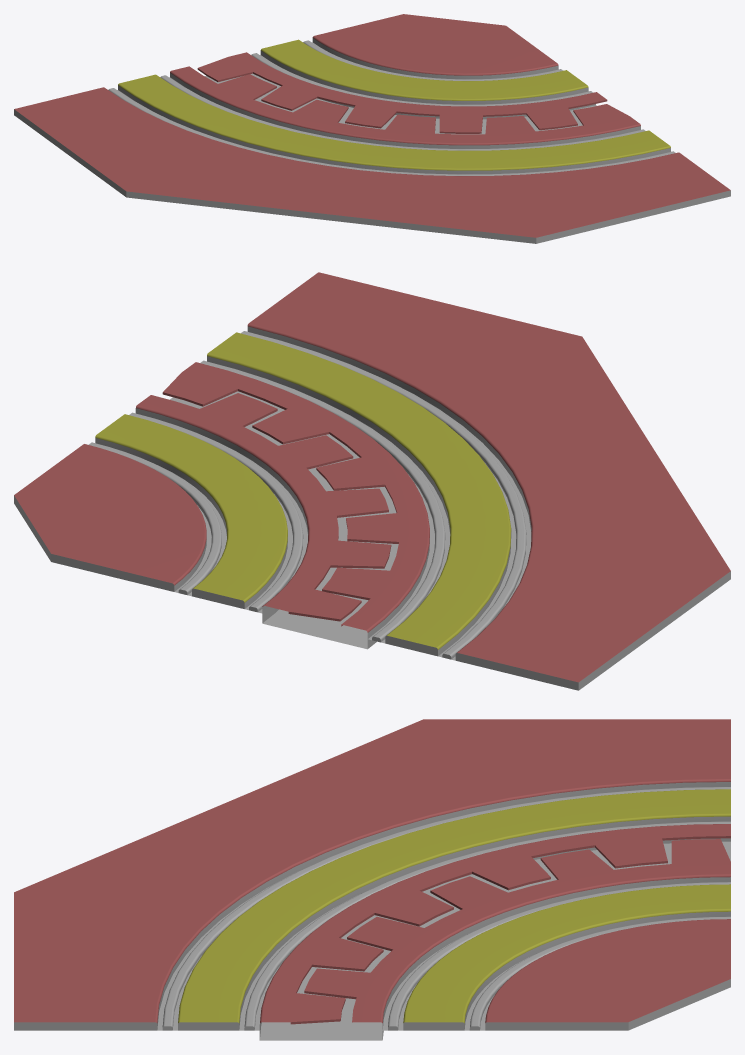
The model's file is leftCorner2.fbx.
The picture shows the model from 3 angles, top to bottom: view 1: azimuth 30°, elevation 25°; view 2: azimuth 150°, elevation 25°; view 3: azimuth 270°, elevation 25°; orthographic projection. The views are drawn at different scales.
Parts seen in each view (by area): view 1: LeftCorner2; view 2: LeftCorner2; view 3: LeftCorner2.
Part boxes in pixels (<box>): LeftCorner2: <box>14,14,730,243</box>; LeftCorner2: <box>14,272,730,690</box>; LeftCorner2: <box>14,719,730,1040</box>.
Bounding box in the file's own units: 700 × 20 × 700.
